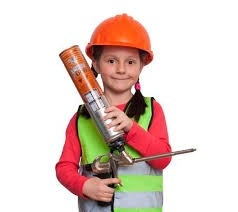helmet: (84, 12, 154, 67)
person with full safety: (58, 12, 172, 210)
safety vest: (78, 101, 161, 207)
